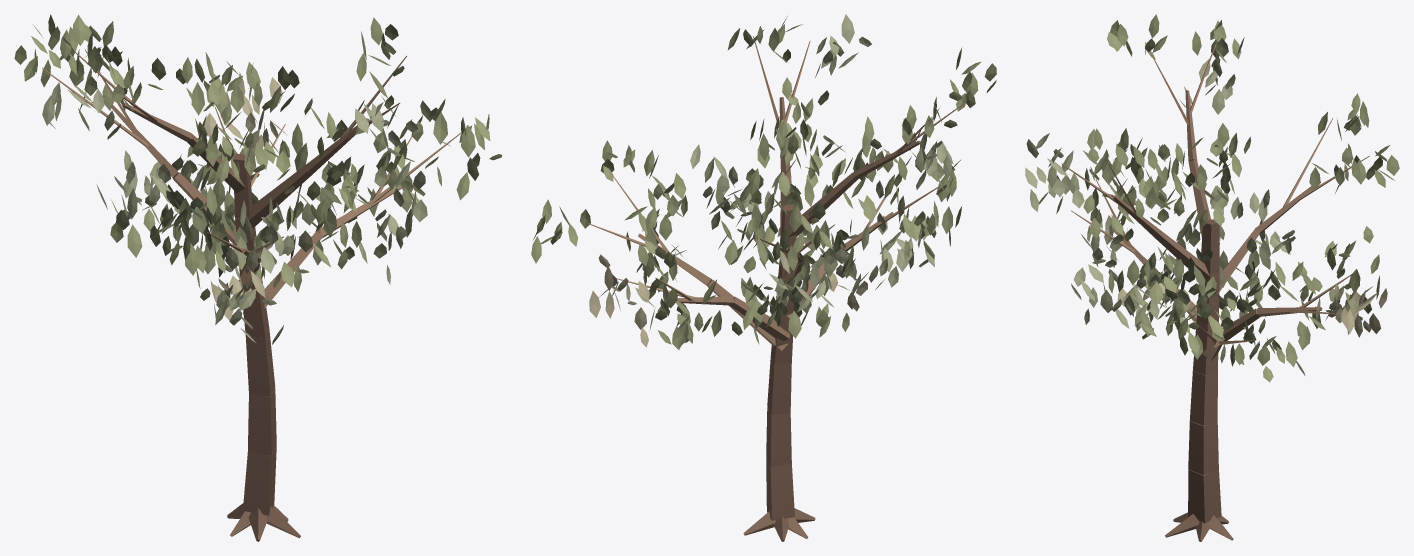
The model's file is tree_3d_01.glb.
The picture shows the model from 3 angles, left to right: view 1: azimuth 30°, elevation 25°; view 2: azimuth 150°, elevation 25°; view 3: azimuth 270°, elevation 25°; orthographic projection. The views are drawn at different scales.
Parts seen in each view (by area): view 1: tree_3d_01_foliage, tree_3d_01_wood; view 2: tree_3d_01_foliage, tree_3d_01_wood; view 3: tree_3d_01_foliage, tree_3d_01_wood.
Part boxes in pixels (x1,y1,x2,y2): tree_3d_01_foliage: [14, 14, 502, 344]; tree_3d_01_wood: [42, 49, 461, 541]; tree_3d_01_foliage: [531, 14, 996, 349]; tree_3d_01_wood: [589, 36, 966, 541]; tree_3d_01_foliage: [1025, 14, 1399, 382]; tree_3d_01_wood: [1061, 35, 1369, 541].
Size of the model in its own units: 7.5 by 9 by 6.8.
